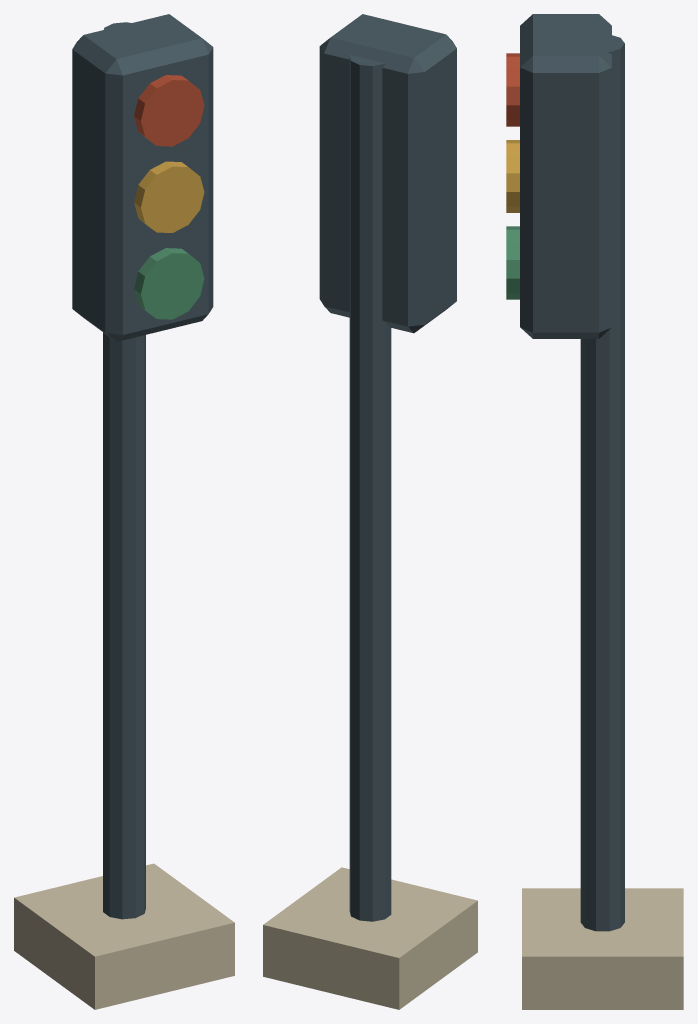
File: traffic_signal.glb
3 renders of one model, left to right at view 1: azimuth 30°, elevation 25°; view 2: azimuth 150°, elevation 25°; view 3: azimuth 270°, elevation 25°, orthographic. The views are drawn at different scales.
Parts seen in each view (by area): view 1: traffic_signal; view 2: traffic_signal; view 3: traffic_signal.
Part boxes in pixels (left/top/right/bottom): traffic_signal: left=14, top=14, right=234, bottom=1009; traffic_signal: left=263, top=14, right=477, bottom=1009; traffic_signal: left=506, top=14, right=683, bottom=1009.
Bounding box in the file's own units: 0.44 × 2.83 × 0.4825.
